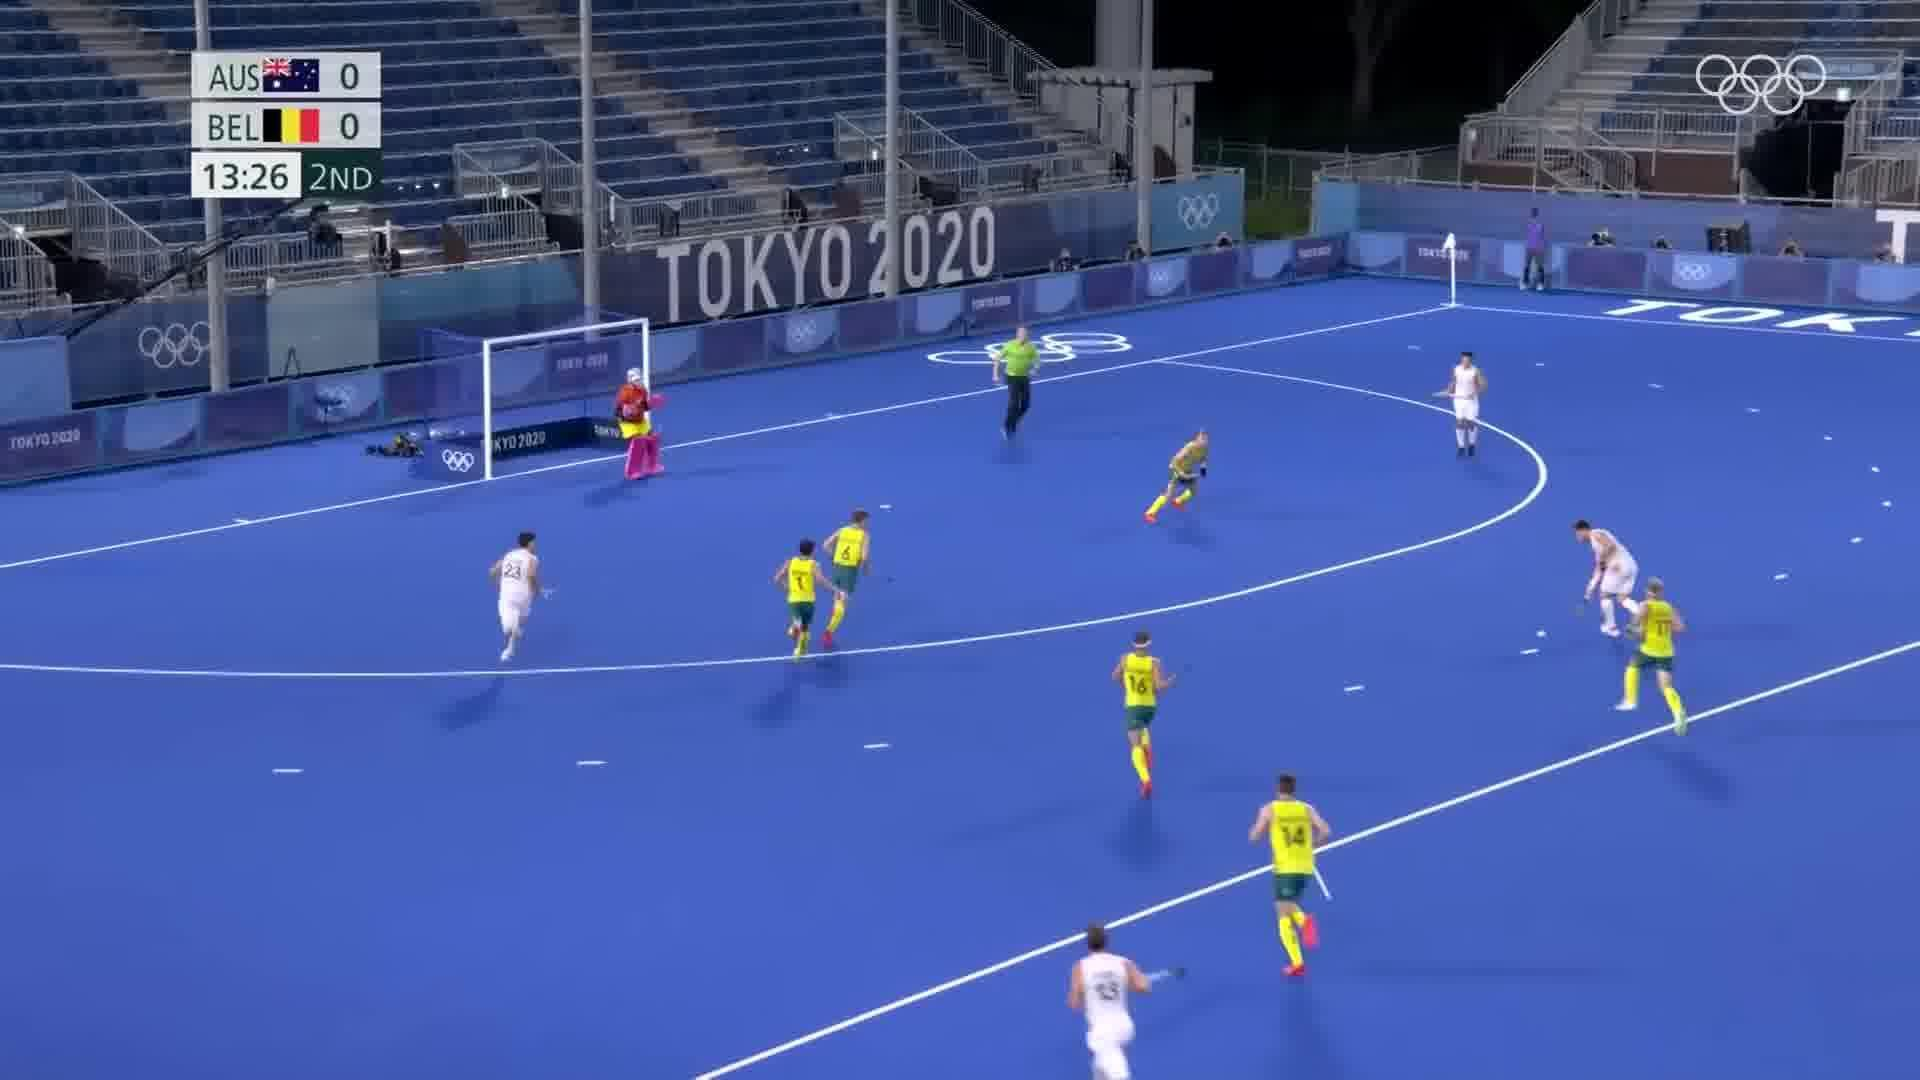ball: (1522, 624, 1552, 644)
